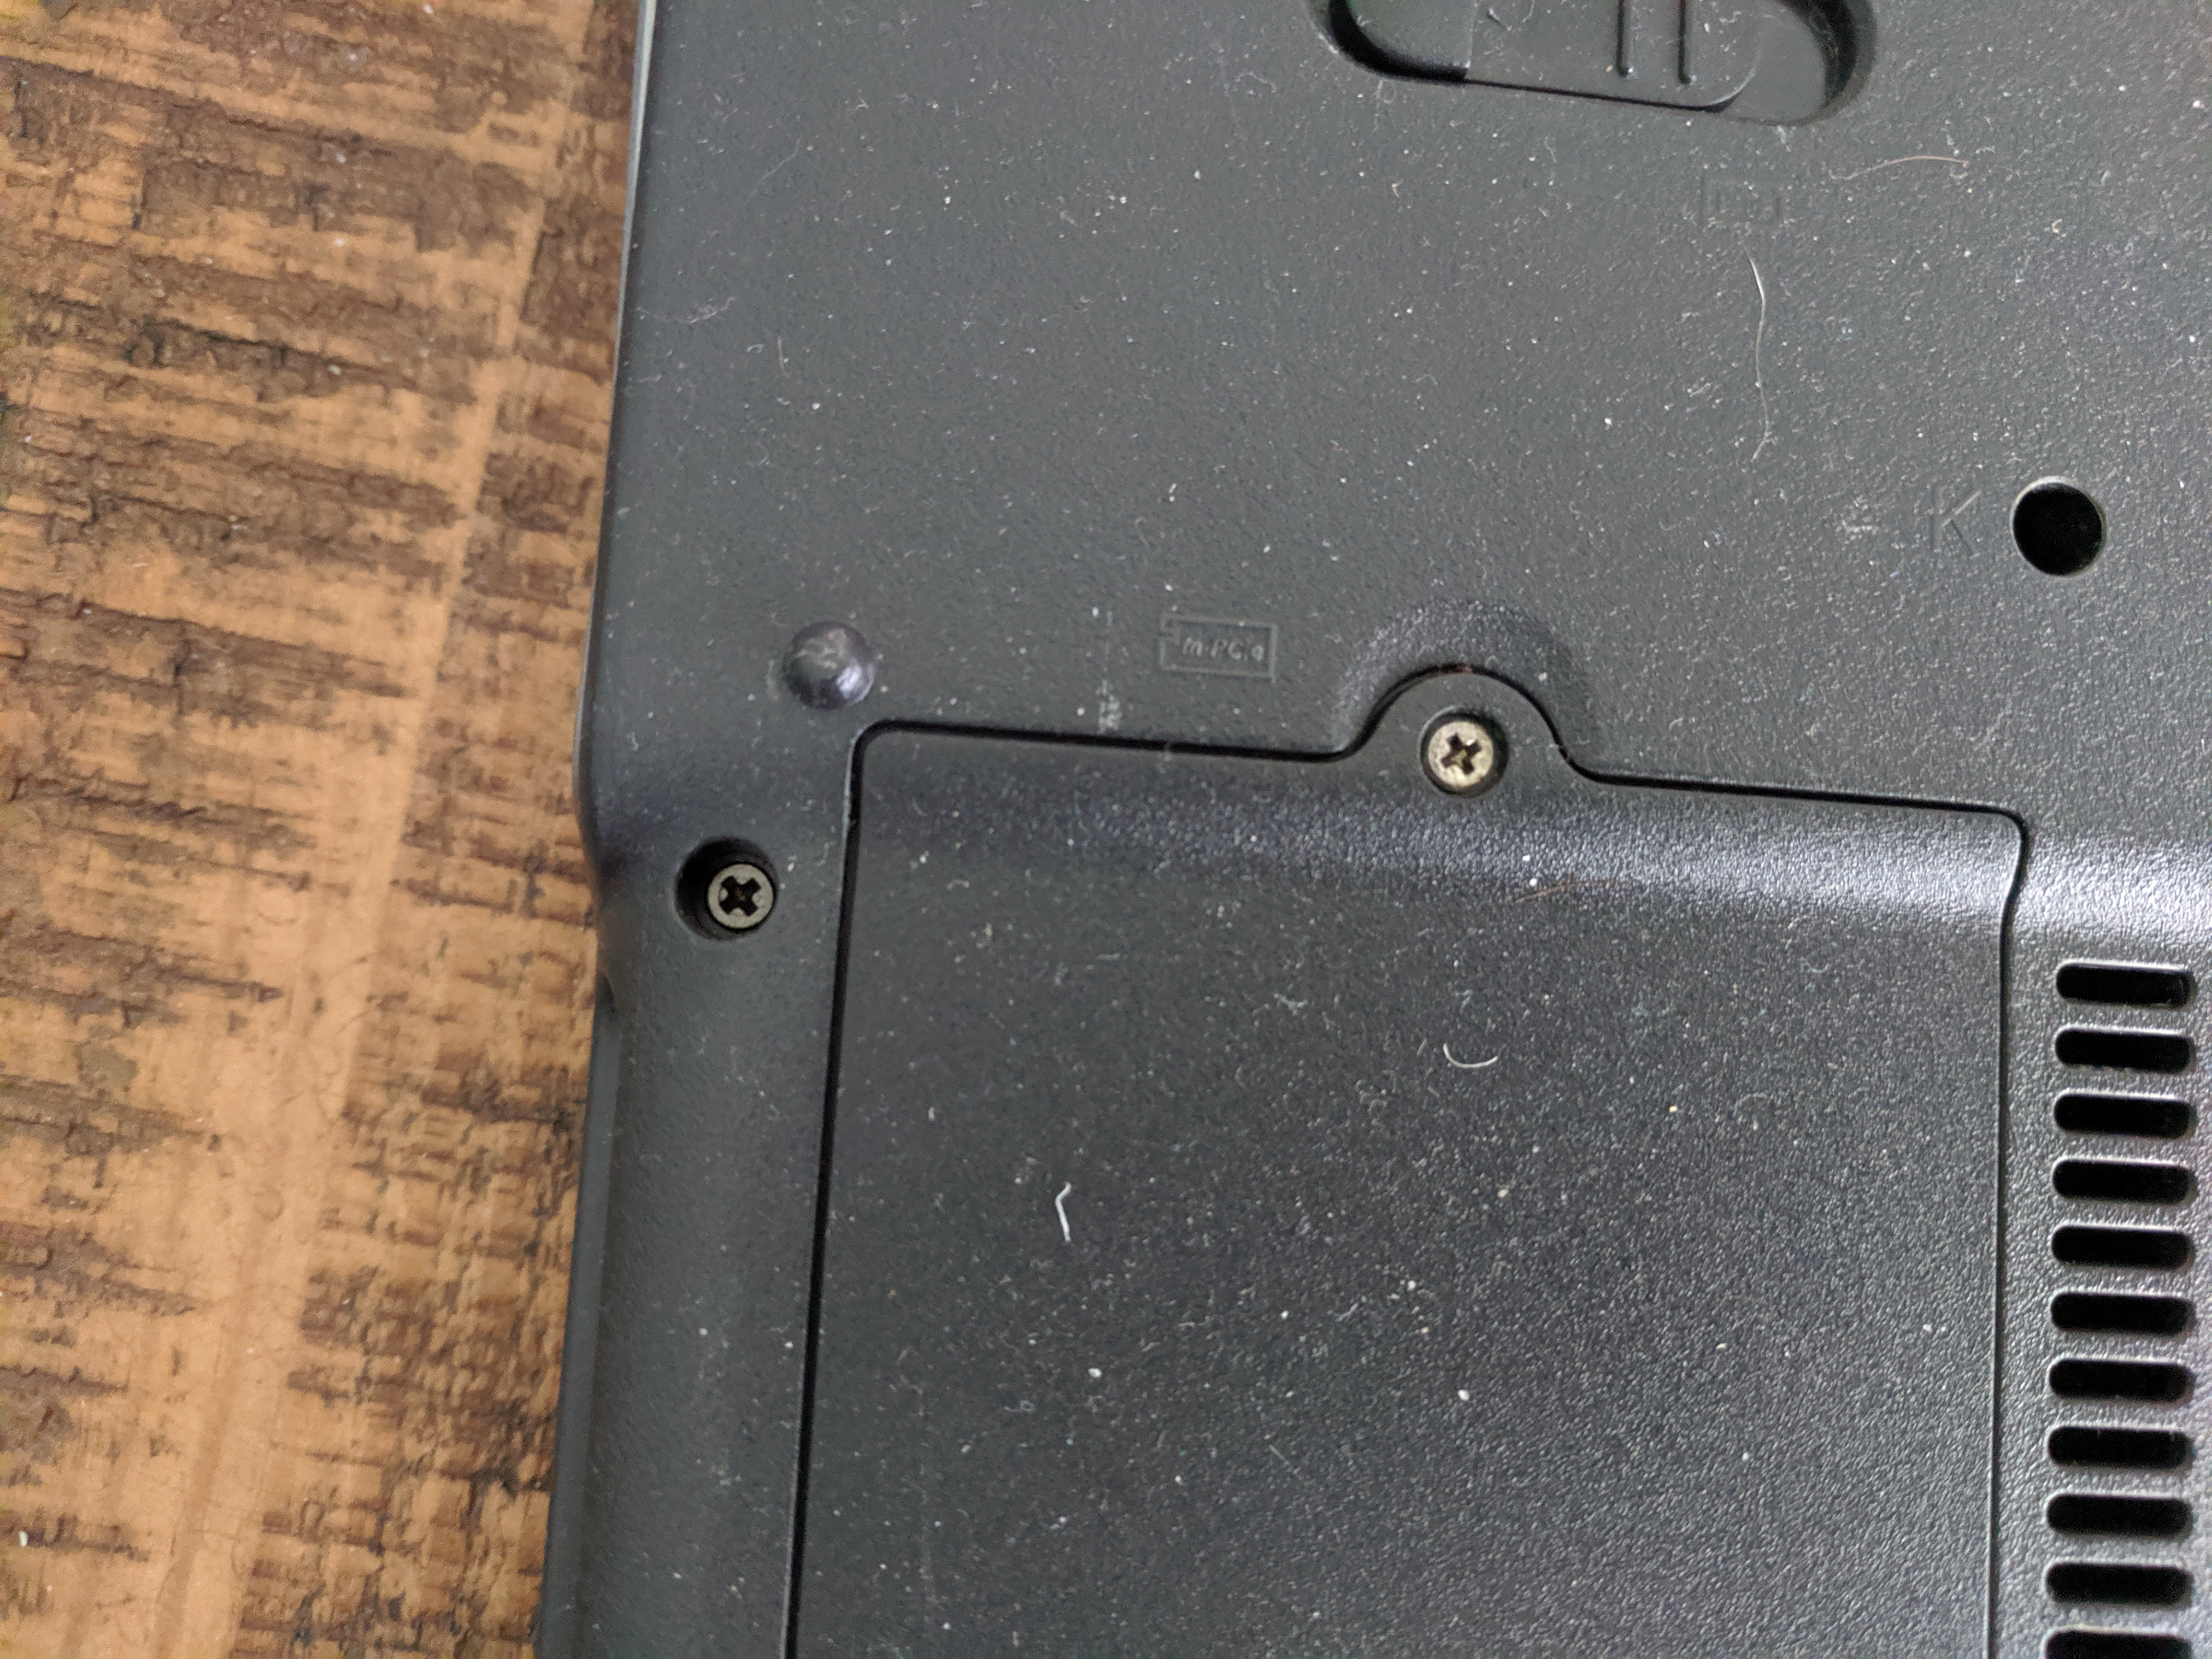cross_recessed_screw: (1425, 699, 1508, 796), (693, 849, 773, 931)
